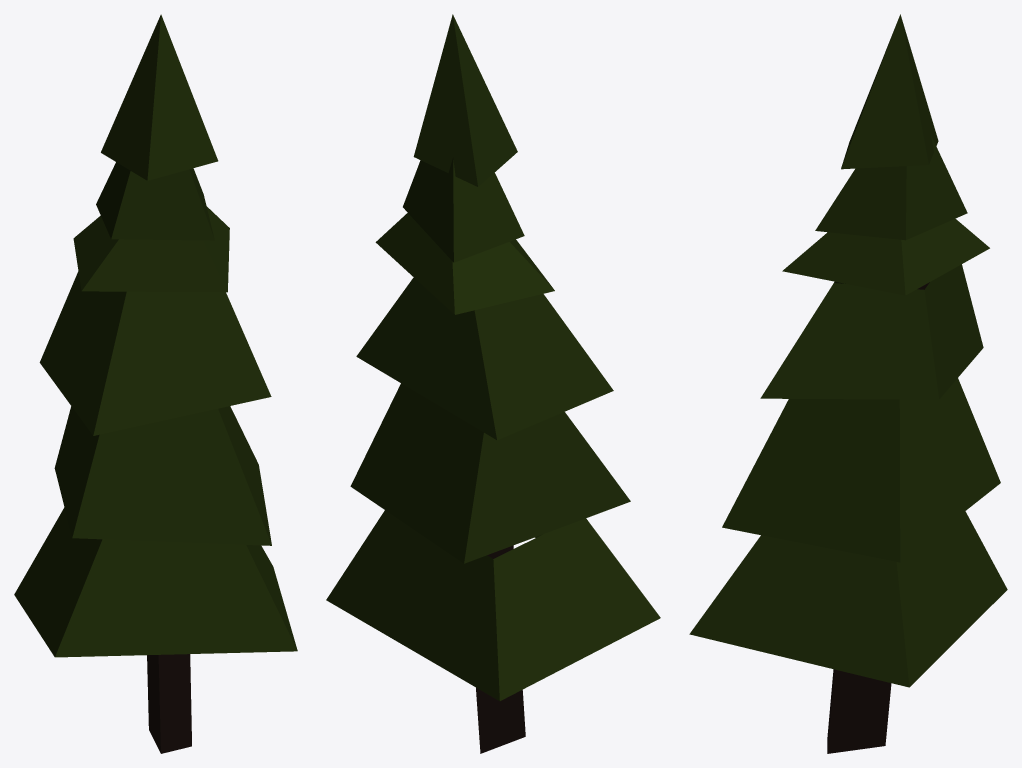
File: L3PINE_01.obj
The picture shows the model from 3 angles, left to right: view 1: azimuth 30°, elevation 25°; view 2: azimuth 150°, elevation 25°; view 3: azimuth 270°, elevation 25°; orthographic projection. The views are drawn at different scales.
Parts seen in each view (by area): view 1: Cylinder.003, Cylinder.004; view 2: Cylinder.003, Cylinder.004; view 3: Cylinder.003, Cylinder.004.
Boxes of the visible parts, <box> form: Cylinder.003: <box>14,14,297,657</box>; Cylinder.004: <box>147,654,191,753</box>; Cylinder.003: <box>326,14,660,701</box>; Cylinder.004: <box>476,545,525,753</box>; Cylinder.003: <box>689,14,1007,687</box>; Cylinder.004: <box>827,282,929,753</box>.
Size of the model in its own units: 2.51 by 6.29 by 2.45.
